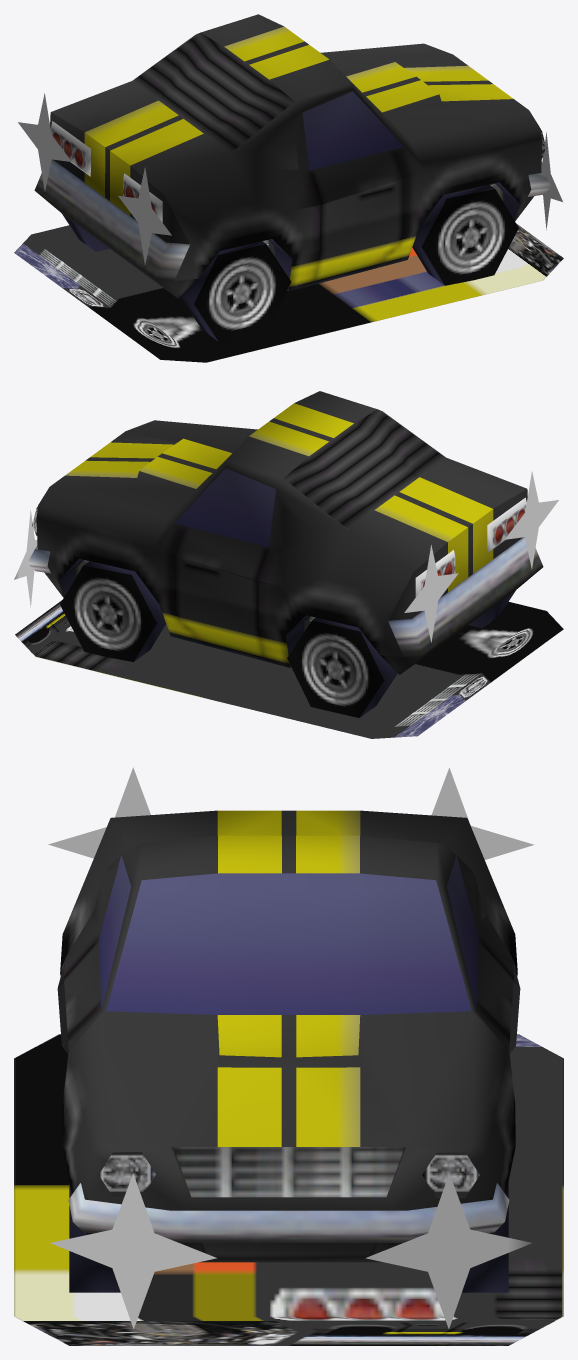
The model's file is RUN3SYSC.ICN.obj.
The picture shows the model from 3 angles, top to bottom: view 1: azimuth 30°, elevation 25°; view 2: azimuth 150°, elevation 25°; view 3: azimuth 270°, elevation 25°; orthographic projection. The views are drawn at different scales.
Size of the model in its own units: 4.84 by 2.32 by 3.5.
1 material, 1 textured.
